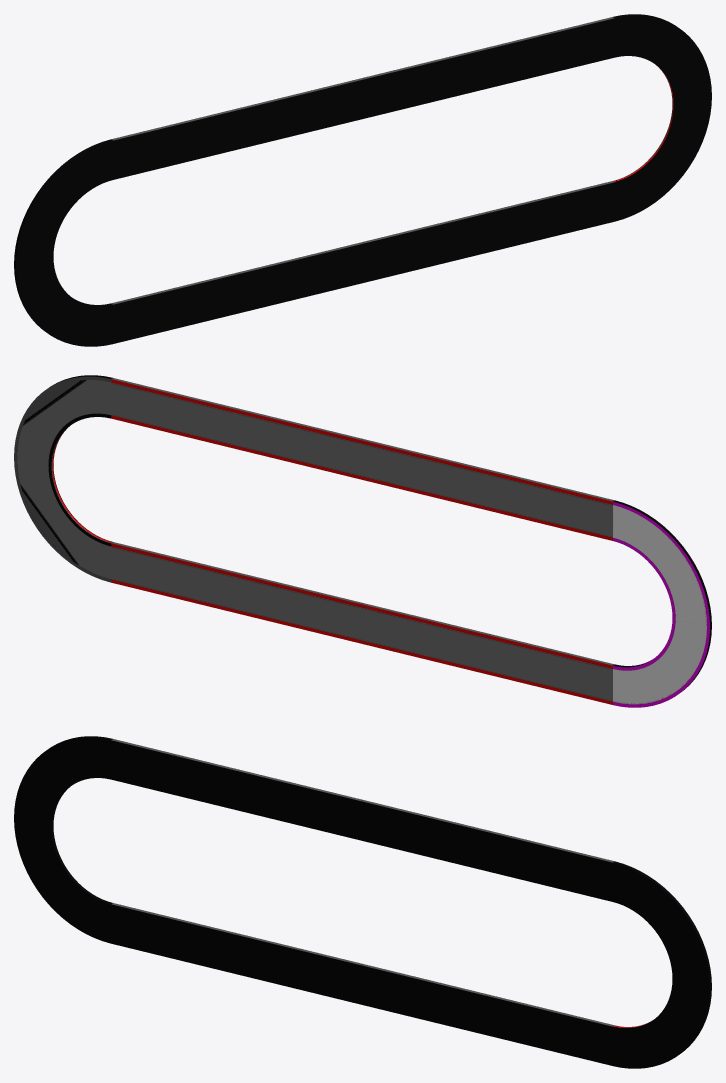
Rendered from oval.dae.
The picture shows the model from 3 angles, top to bottom: view 1: azimuth 30°, elevation 25°; view 2: azimuth 150°, elevation 25°; view 3: azimuth 330°, elevation 25°; orthographic projection.
Parts seen in each view (by area): view 1: Plane (×2), Plane.010, Plane.008, Plane.007, Plane.009, Plane.016, Plane.012, Plane.001, Plane.004, Plane.013, Plane.018, Plane.014 (+7 smaller); view 2: Plane (×2), Plane.010, Plane.008, Plane.007, Plane.009, Plane.016, Plane.012, Plane.004, Plane.001, Plane.013, Plane.018, Plane.014 (+7 smaller); view 3: Plane.007, Plane (×2), Plane.009, Plane.010, Plane.008, Plane.013, Plane.017, Plane.004, Plane.005, Plane.001, Plane.016, Plane.015 (+7 smaller).
Boxes of the visible parts, x1,y1,x2,y2 form: Plane (×2): (111, 108, 238, 179); Plane.010: (14, 139, 112, 265); Plane.008: (613, 96, 711, 221); Plane.007: (613, 14, 711, 105); Plane.009: (14, 257, 112, 346); Plane.016: (425, 211, 489, 267); Plane.012: (174, 273, 238, 328); Plane.001: (237, 93, 301, 149); Plane.004: (425, 47, 489, 103); Plane.013: (237, 257, 301, 313); Plane.018: (550, 181, 614, 236); Plane.014: (299, 242, 363, 297); Plane (×2): (487, 469, 614, 540); Plane.010: (613, 500, 711, 626); Plane.008: (14, 457, 112, 582); Plane.007: (14, 375, 112, 466); Plane.009: (613, 618, 711, 707); Plane.016: (236, 572, 300, 628); Plane.012: (487, 634, 551, 689); Plane.004: (236, 408, 300, 464); Plane.001: (424, 454, 488, 510); Plane.013: (424, 618, 488, 674); Plane.018: (111, 542, 175, 597); Plane.014: (362, 603, 426, 658); Plane.007: (613, 861, 711, 987); Plane (×2): (111, 739, 237, 809); Plane.009: (14, 818, 112, 943); Plane.010: (14, 736, 112, 827); Plane.008: (613, 979, 711, 1068); Plane.013: (236, 933, 300, 989); Plane.017: (487, 995, 551, 1050); Plane.004: (424, 815, 488, 871); Plane.005: (487, 830, 551, 886); Plane.001: (236, 769, 300, 825); Plane.016: (424, 979, 488, 1035); Plane.015: (362, 964, 426, 1019).
Size of the model in its own units: 444 by 2.1 by 124.
Materials: 2 (2 with a texture image).
